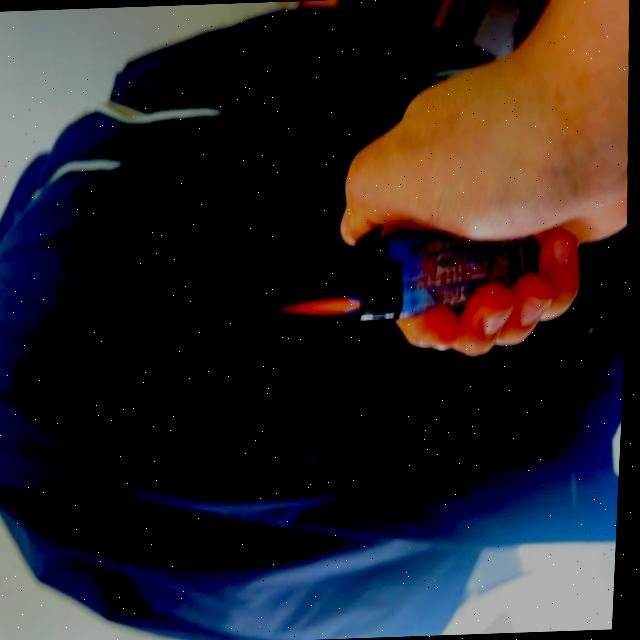Fire: (272, 292, 362, 320)
